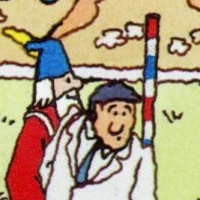wb: (25, 36, 83, 102)
